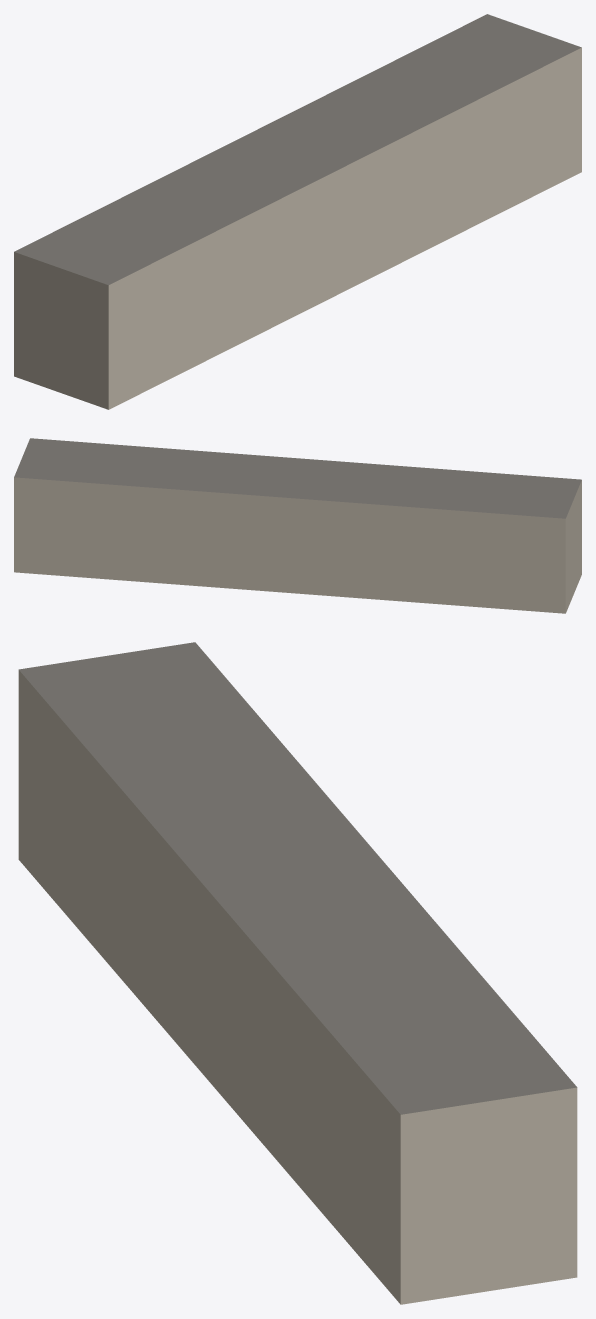
The picture shows the model from 3 angles, top to bottom: view 1: azimuth 30°, elevation 25°; view 2: azimuth 150°, elevation 25°; view 3: azimuth 270°, elevation 25°; orthographic projection. The views are drawn at different scales.
Parts seen in each view (by area): view 1: HP-w859488773; view 2: HP-w859488773; view 3: HP-w859488773.
Part boxes in pixels (x1=…): HP-w859488773: x1=14, y1=14, x2=581, y2=409; HP-w859488773: x1=14, y1=438, x2=581, y2=613; HP-w859488773: x1=18, y1=642, x2=577, y2=1304.
Bounding box in the file's own units: 96.03 × 18 × 47.99.
